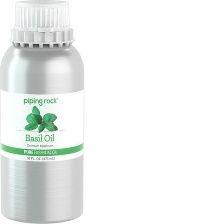bottle: (0, 0, 92, 224)
